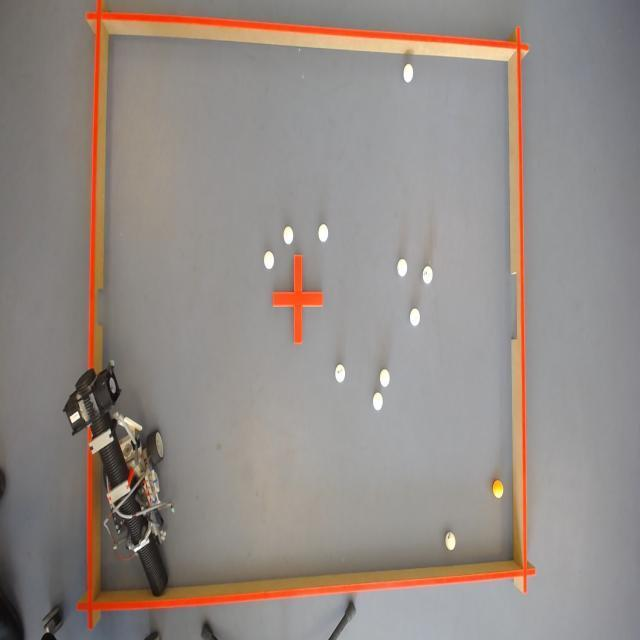orange: (494, 479, 506, 499)
robot: (62, 368, 176, 596)
white: (397, 258, 410, 279), (315, 222, 328, 242), (282, 224, 294, 245), (263, 251, 275, 271), (420, 264, 432, 284), (334, 364, 346, 384), (402, 62, 414, 82), (444, 533, 456, 552), (379, 369, 391, 387), (410, 306, 420, 326), (372, 392, 382, 412)
